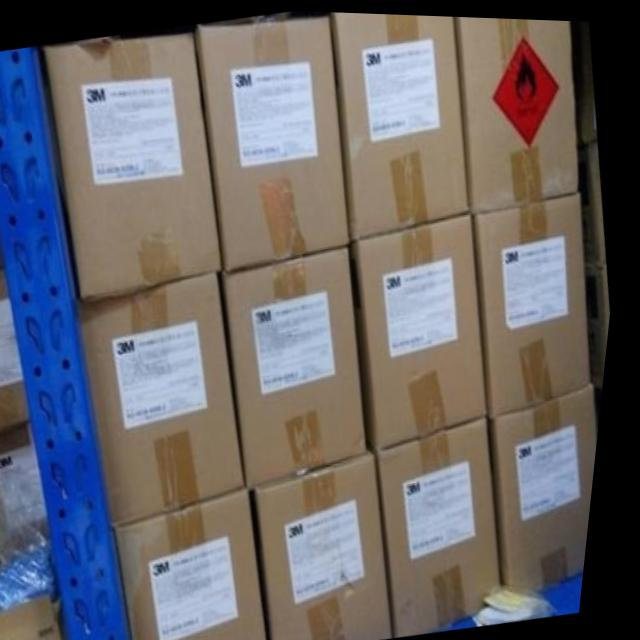box: (46, 31, 227, 297), (82, 269, 256, 526), (193, 14, 354, 270), (227, 241, 378, 484), (357, 211, 495, 448), (333, 10, 473, 240), (259, 449, 407, 640), (385, 414, 514, 632), (479, 187, 598, 415), (456, 13, 583, 210), (127, 486, 281, 640), (501, 380, 605, 589)
